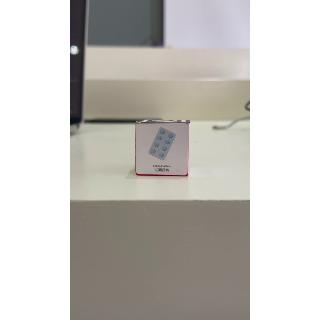Tablet: (138, 125, 188, 175)
